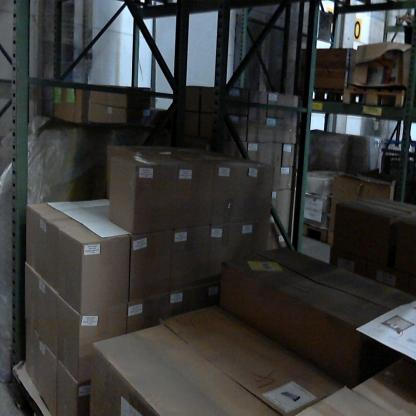pallets: (306, 88, 413, 110)
